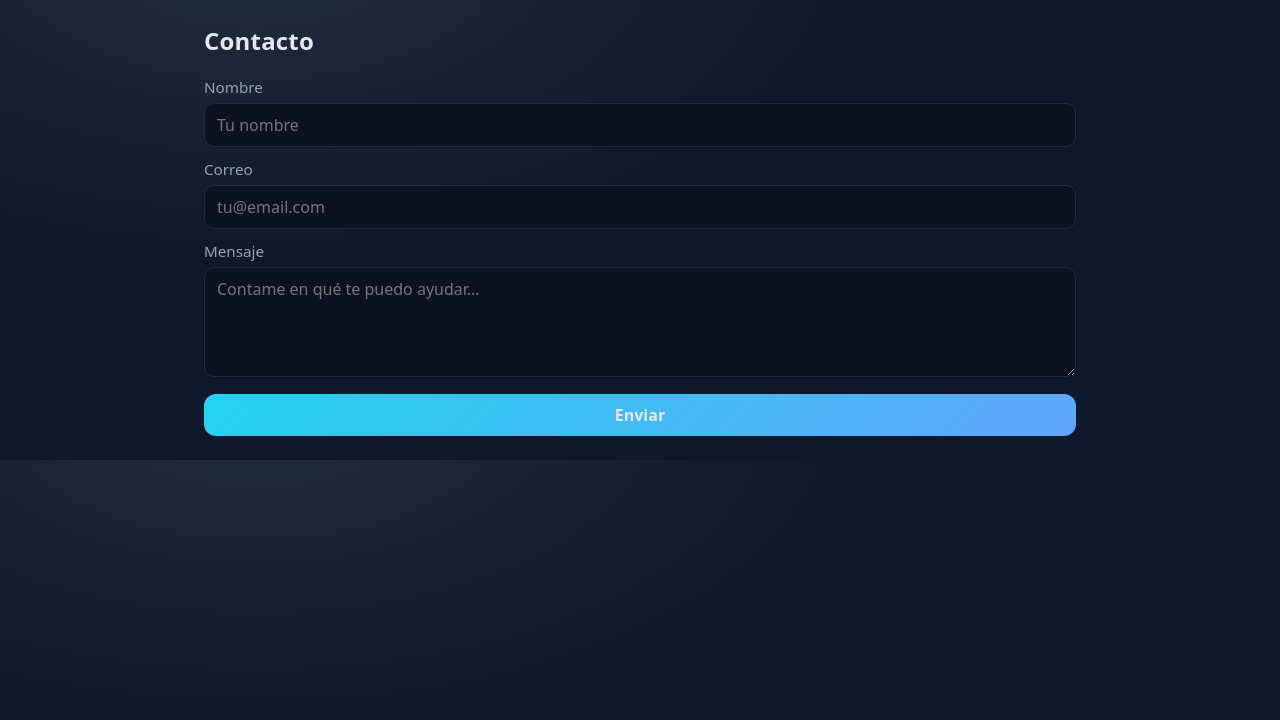
Test: ContactForm › muestra error de email inválido
The width and height of the screenshot is (1280, 720).
In the field labelled "Correo": {"x": 640, "y": 207} [204,185,1076,229], type "pepito@"
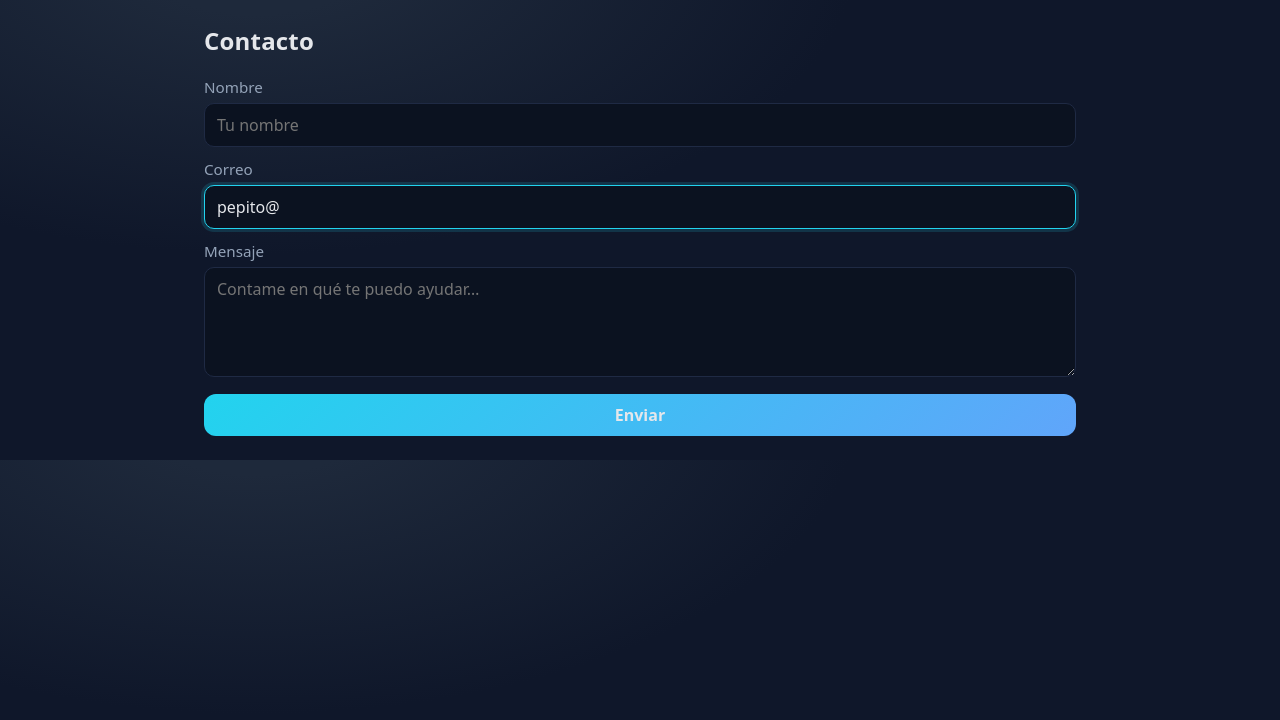
In the field labelled "Nombre": {"x": 640, "y": 125} [204,103,1076,147], type "Pedro"
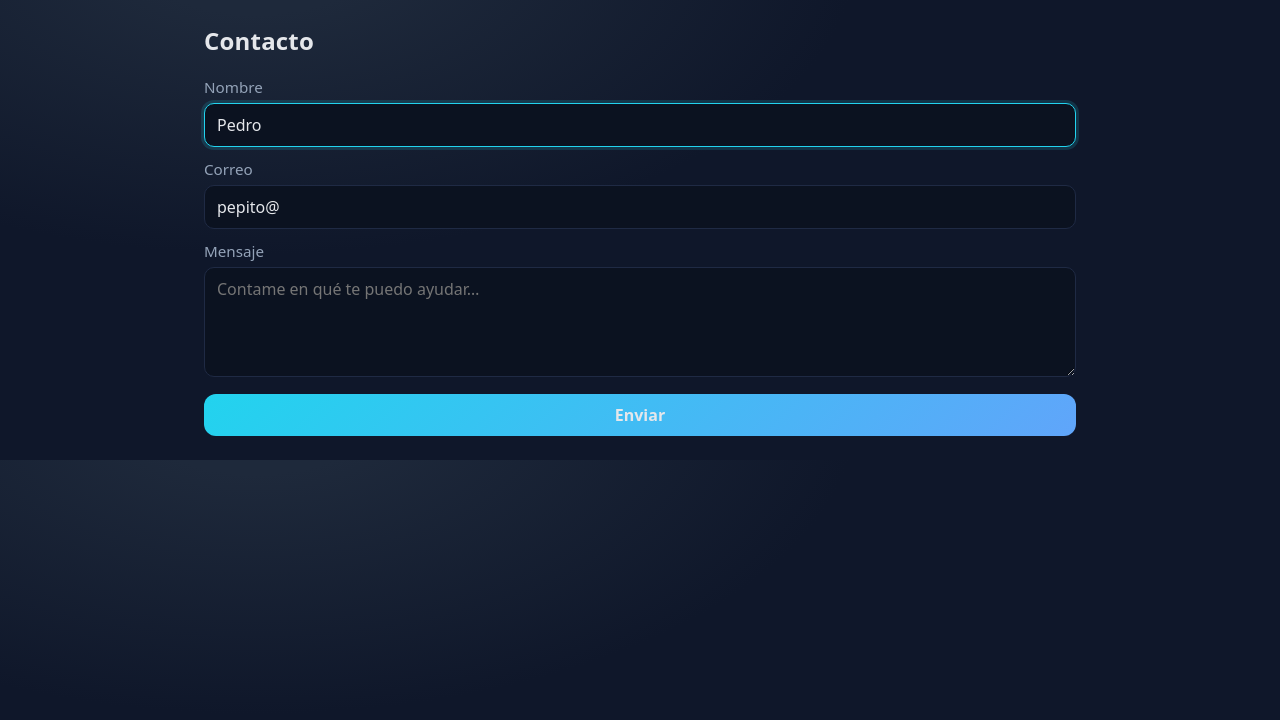
In the text box labelled "Mensaje": {"x": 640, "y": 322} [204,267,1076,377], type "Hola"
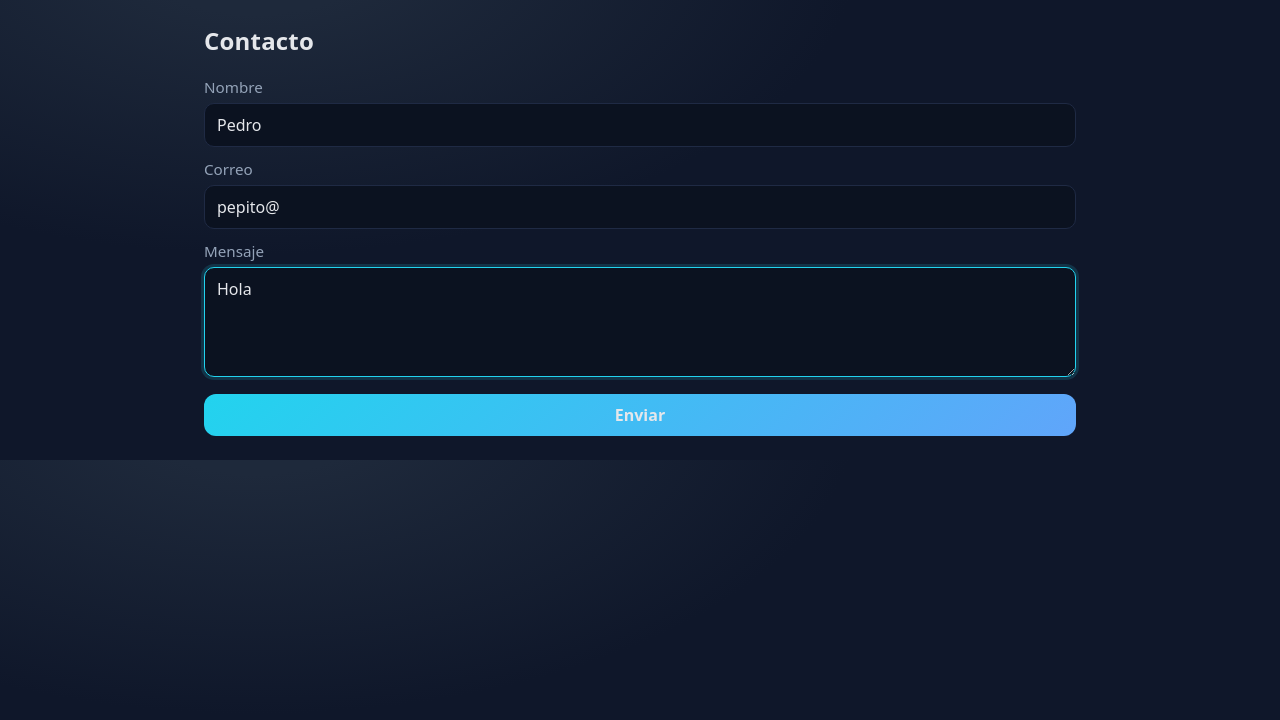
Click the button "Enviar": {"x": 640, "y": 415} [204,394,1076,436]
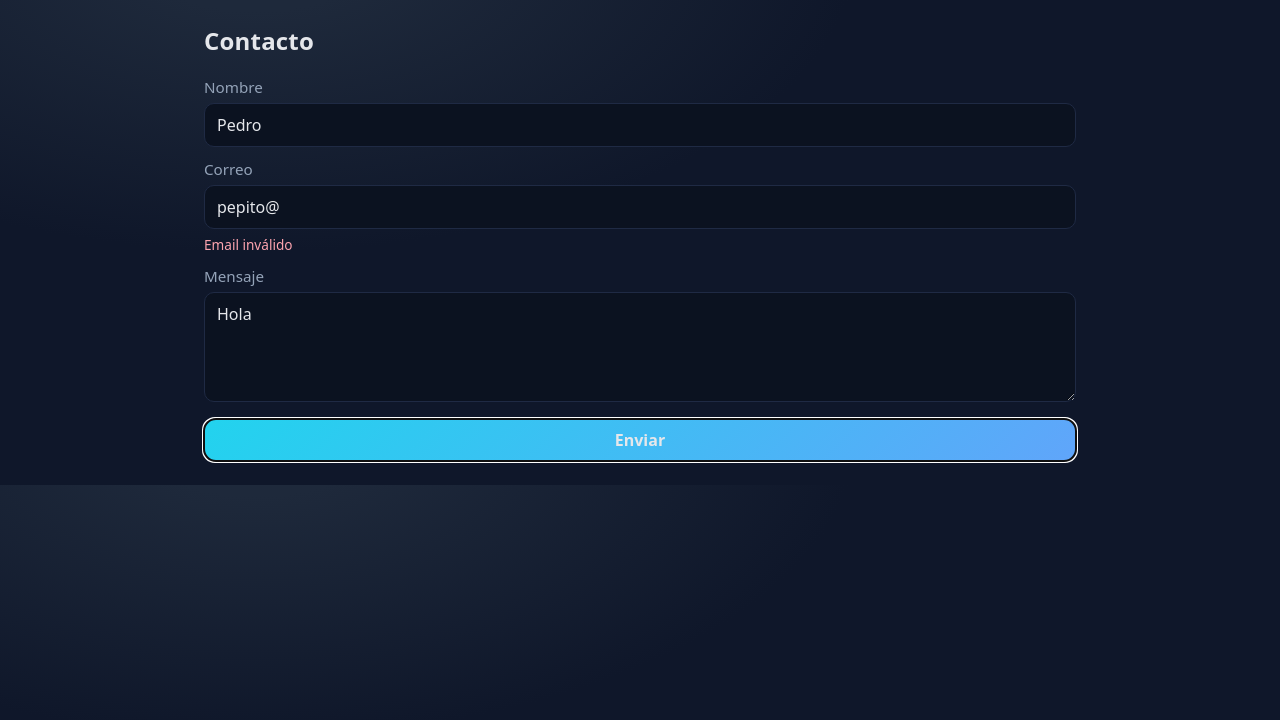
Expected: the message reads "Email inválido", [204,235,292,254]
